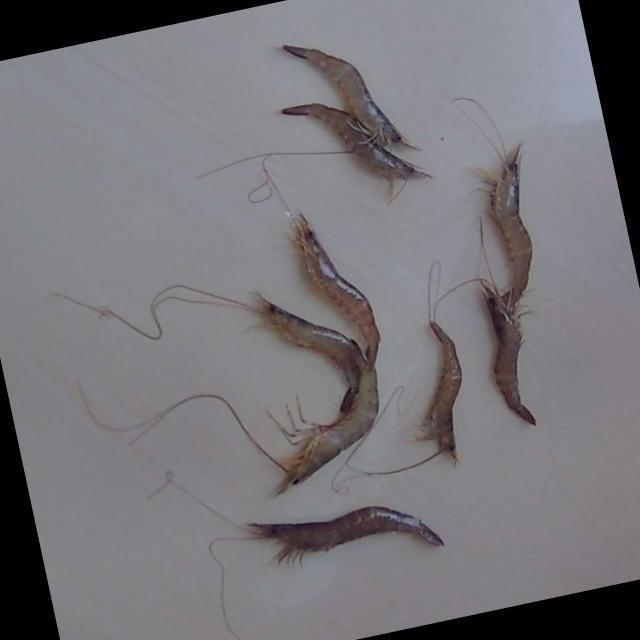shrimp: (275, 338, 381, 502), (281, 195, 381, 367), (245, 286, 361, 413), (285, 44, 414, 146), (284, 102, 432, 179), (248, 507, 446, 564), (477, 276, 538, 426), (491, 142, 533, 308), (430, 321, 464, 462)
